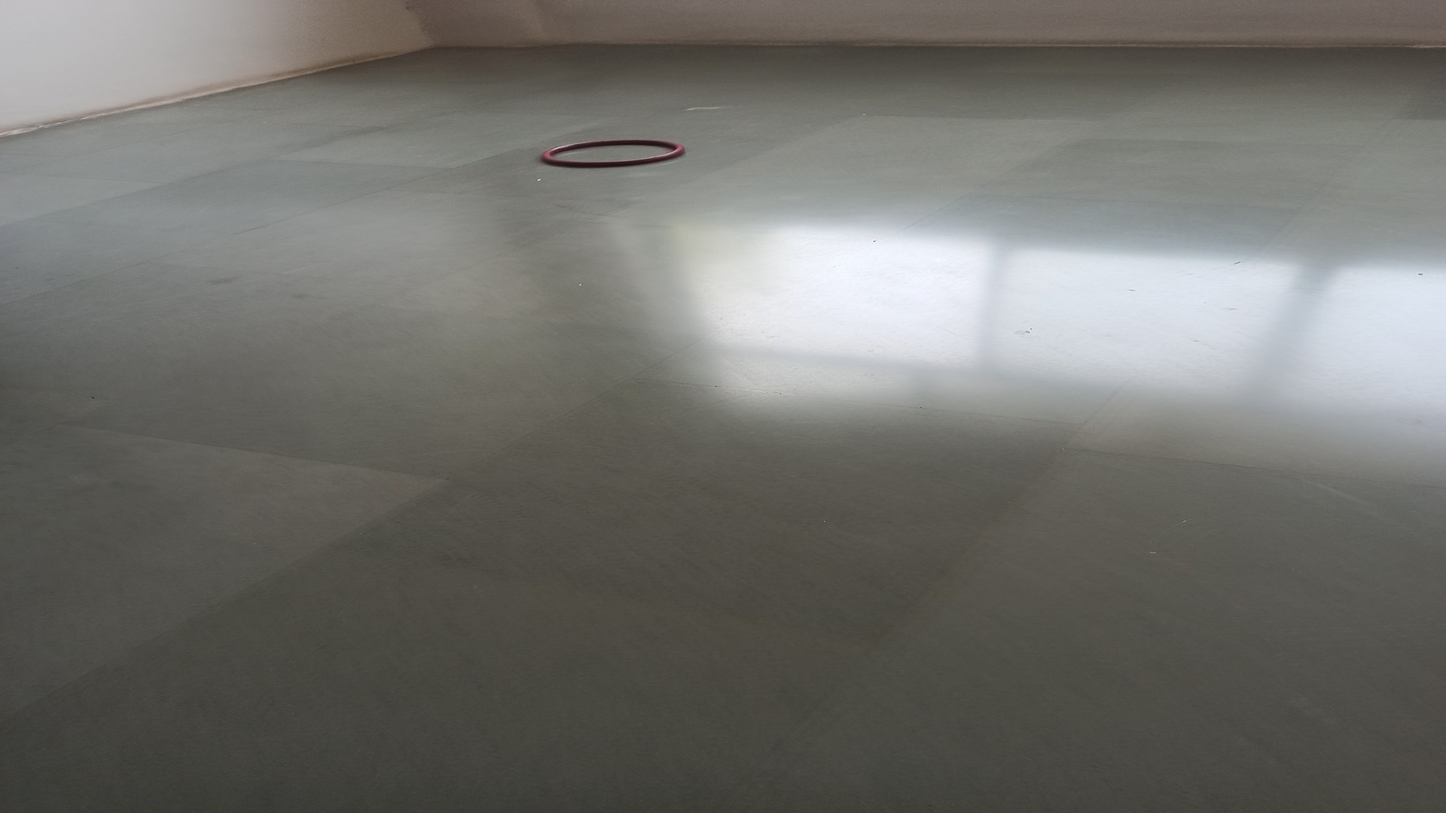Red ring: (542, 138, 687, 168)
